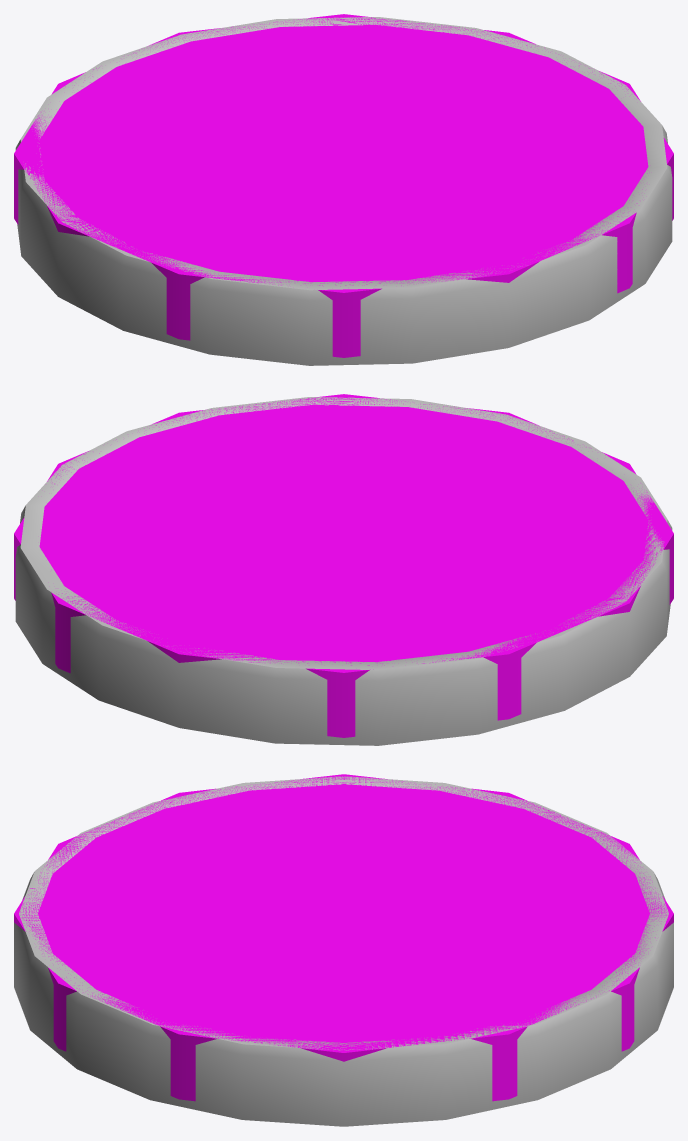
File: planter.glb
3 views of the same model, one above another, from view 1: azimuth 30°, elevation 25°; view 2: azimuth 150°, elevation 25°; view 3: azimuth 270°, elevation 25° (orthographic).
Parts seen in each view (by area): view 1: planter_hull, planter; view 2: planter_hull, planter; view 3: planter_hull, planter.
Boxes of the visible parts, x1,y1,x2,y2 form: planter_hull: [14, 14, 673, 357]; planter: [15, 17, 672, 365]; planter_hull: [14, 394, 673, 737]; planter: [15, 397, 672, 745]; planter_hull: [14, 774, 673, 1101]; planter: [14, 776, 673, 1126].
Bounding box in the file's own units: 6.9 × 0.85 × 6.9.
